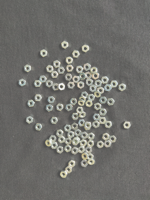nut: (61, 41, 69, 49), (82, 45, 90, 53), (72, 50, 80, 58), (46, 65, 54, 73), (24, 65, 32, 73), (76, 66, 84, 74), (58, 83, 66, 91), (86, 79, 94, 87), (101, 76, 109, 84), (104, 84, 112, 92), (56, 104, 64, 112), (27, 100, 35, 108), (105, 121, 113, 129), (71, 123, 79, 131), (74, 129, 82, 137), (97, 141, 105, 149), (58, 136, 66, 144), (85, 147, 93, 155), (81, 160, 89, 168), (88, 158, 96, 166), (68, 160, 76, 168), (65, 166, 73, 174), (60, 171, 68, 179), (123, 122, 132, 129), (40, 50, 48, 57), (66, 57, 73, 65), (53, 61, 61, 68), (66, 65, 74, 72), (51, 71, 59, 78), (84, 63, 91, 71), (91, 67, 98, 75), (65, 74, 73, 81), (79, 73, 87, 80), (39, 76, 47, 83), (34, 81, 42, 88), (19, 79, 26, 87), (46, 80, 53, 88), (95, 80, 102, 88), (119, 84, 126, 92), (97, 87, 105, 94), (90, 85, 97, 93), (94, 91, 102, 98), (88, 94, 96, 101), (81, 92, 89, 99), (100, 97, 108, 104), (107, 99, 115, 106), (79, 96, 87, 103), (95, 103, 102, 111), (70, 98, 77, 106), (66, 104, 73, 112), (34, 95, 42, 102), (76, 107, 84, 114), (79, 111, 86, 119), (93, 114, 101, 121), (35, 124, 43, 131), (26, 117, 34, 124), (99, 117, 107, 124), (93, 121, 100, 129), (78, 120, 86, 127), (84, 122, 92, 129), (64, 125, 72, 132), (56, 130, 64, 137), (68, 131, 75, 139), (81, 132, 88, 140), (88, 133, 95, 141), (103, 133, 110, 141), (109, 136, 117, 143), (45, 140, 53, 147), (57, 146, 64, 154), (72, 138, 79, 146), (65, 145, 72, 153), (87, 141, 95, 148), (72, 147, 79, 155), (58, 67, 65, 74), (73, 76, 80, 83), (93, 73, 100, 80), (52, 84, 59, 91), (68, 82, 75, 89), (78, 82, 85, 89), (111, 81, 118, 88), (86, 100, 93, 107), (100, 109, 107, 116), (48, 97, 55, 104), (46, 105, 53, 112), (72, 113, 79, 120), (51, 117, 58, 124), (84, 124, 91, 131), (105, 141, 112, 148), (65, 138, 72, 145), (51, 143, 58, 150), (74, 137, 81, 144), (80, 140, 87, 147), (78, 147, 85, 154), (82, 153, 89, 160), (49, 136, 57, 142), (86, 72, 92, 79), (78, 100, 85, 106), (88, 154, 94, 160)
